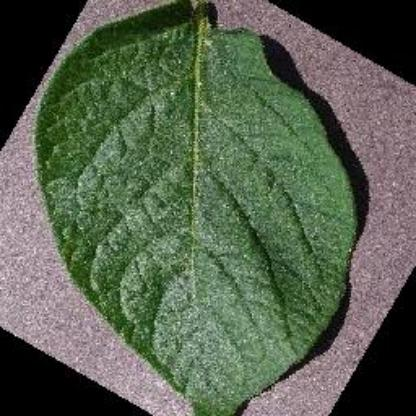Healthy-plant: (29, 5, 382, 402)
